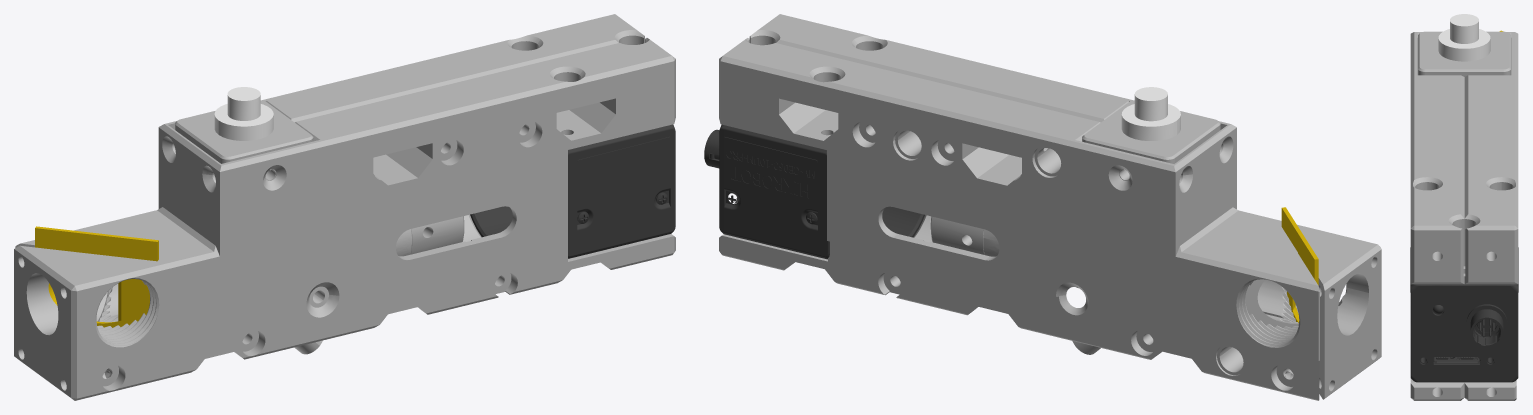
The model's file is M274_AC_1000_Autofocus_Module_HIKCamera.glb.
3 renders of one model, left to right at view 1: azimuth 30°, elevation 25°; view 2: azimuth 150°, elevation 25°; view 3: azimuth 270°, elevation 25°, orthographic. The views are drawn at different scales.
Visible parts, largest first — view 1: empty_7, empty_8, empty_9, empty_5, empty_6, empty_2, empty_3; view 2: empty_8, empty_7, empty_9, empty_6, empty_2, empty_3, empty_5; view 3: empty_7, empty_8, empty_9, empty_6, empty_2.
Boxes of the visible parts, x1=… form: empty_7: x1=14, y1=38, x2=675, y2=400; empty_8: x1=15, y1=14, x2=644, y2=321; empty_9: x1=470, y1=124, x2=675, y2=258; empty_5: x1=35, y1=226, x2=158, y2=327; empty_6: x1=175, y1=100, x2=313, y2=180; empty_2: x1=214, y1=87, x2=273, y2=140; empty_3: x1=410, y1=216, x2=464, y2=254; empty_8: x1=719, y1=38, x2=1319, y2=400; empty_7: x1=749, y1=14, x2=1381, y2=399; empty_9: x1=704, y1=124, x2=924, y2=259; empty_6: x1=1082, y1=100, x2=1220, y2=180; empty_2: x1=1121, y1=87, x2=1180, y2=140; empty_3: x1=930, y1=216, x2=984, y2=254; empty_5: x1=1281, y1=207, x2=1318, y2=323; empty_7: x1=1410, y1=32, x2=1464, y2=400; empty_8: x1=1464, y1=32, x2=1518, y2=400; empty_9: x1=1410, y1=247, x2=1518, y2=382; empty_6: x1=1418, y1=31, x2=1510, y2=76; empty_2: x1=1438, y1=14, x2=1490, y2=61.
Size of the model in its own units: 171 by 66.37 by 29.03.
